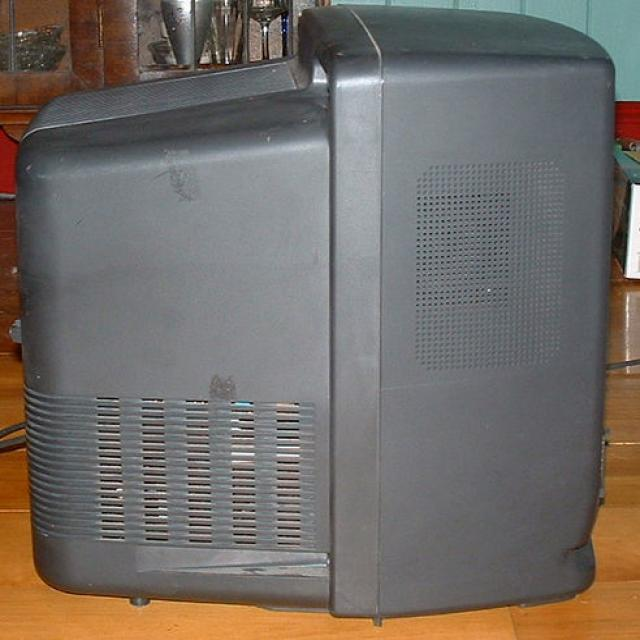tvmonitor: (14, 4, 616, 628)
